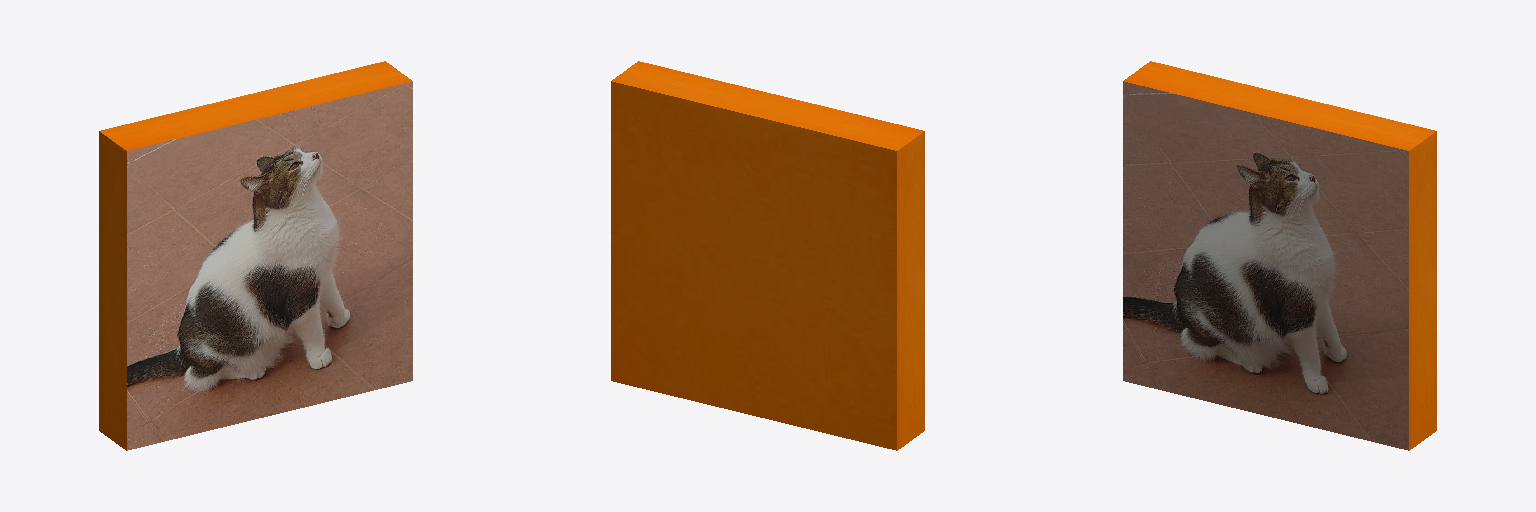
3 renders of one model, left to right at view 1: azimuth 30°, elevation 25°; view 2: azimuth 150°, elevation 25°; view 3: azimuth 330°, elevation 25°, orthographic.
Visible parts, largest first — view 1: Box001; view 2: Box001; view 3: Box001.
Boxes of the visible parts, x1,y1,x2,y2 form: Box001: [99, 61, 412, 450]; Box001: [611, 61, 924, 450]; Box001: [1123, 61, 1436, 450].
Size of the model in its own units: 6 by 6 by 1.
2 materials, 2 textured.